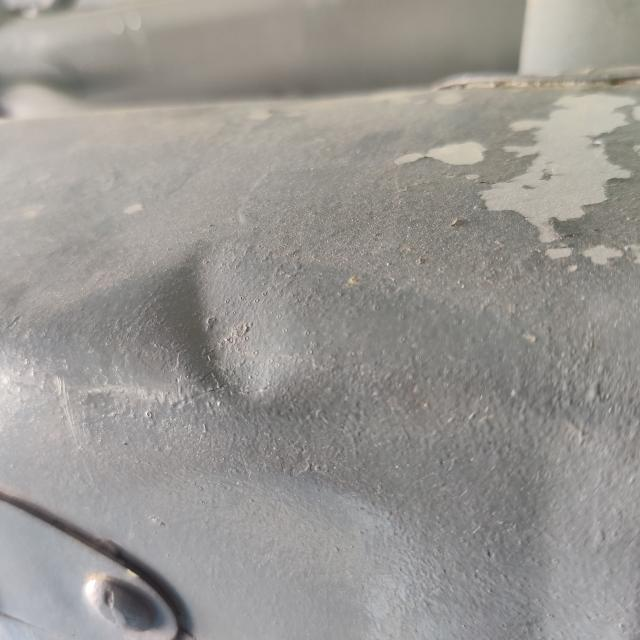dent: (124, 228, 303, 440)
paint-off: (382, 81, 640, 282)
